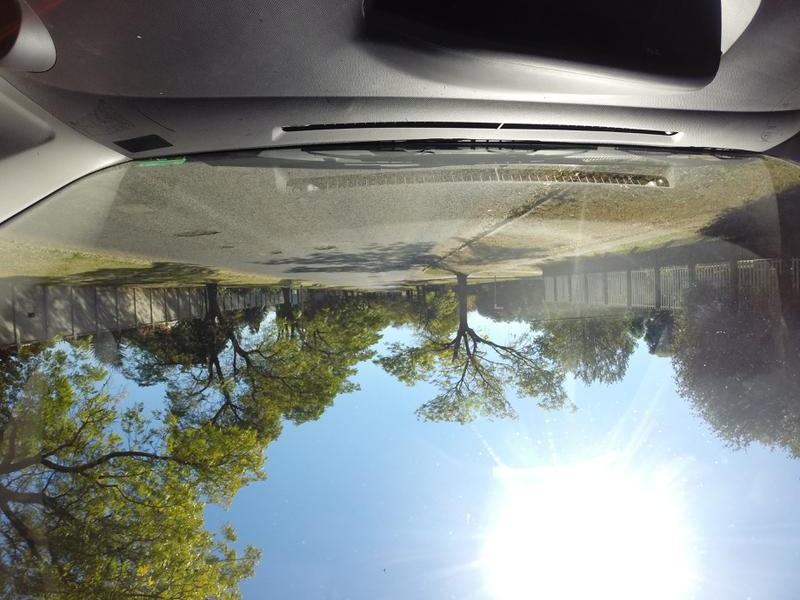pothole: (172, 228, 218, 239), (302, 238, 336, 251), (260, 242, 282, 258), (221, 244, 233, 249)
